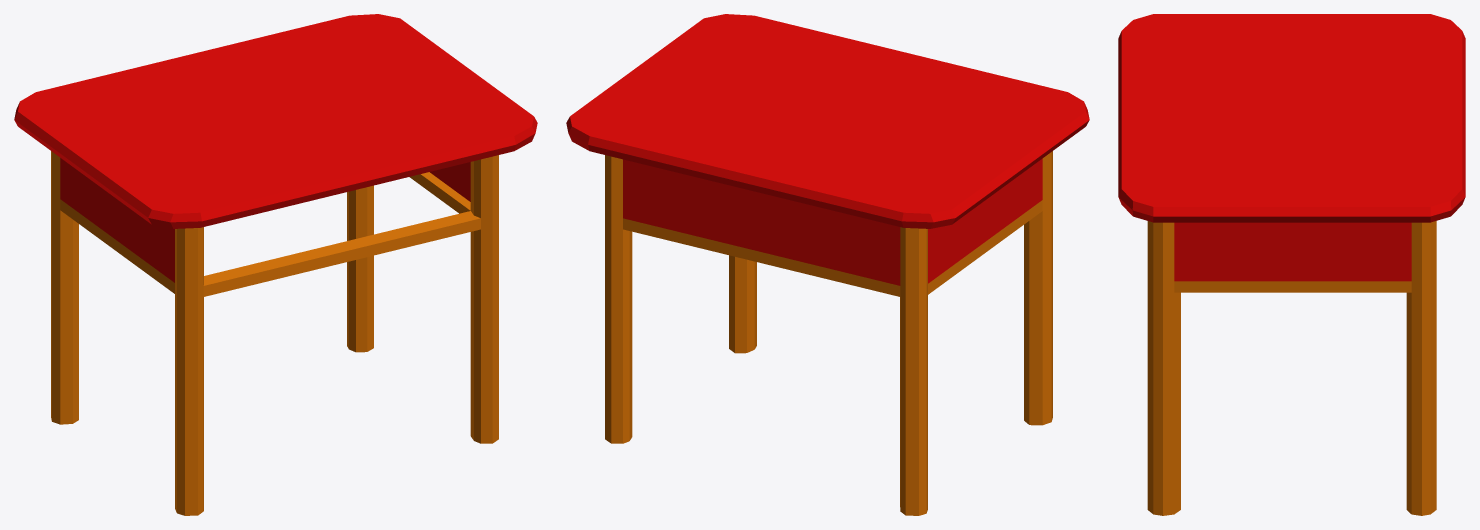
Rendered from GGJ-StudentDesk01.fbx.
3 renders of one model, left to right at view 1: azimuth 30°, elevation 25°; view 2: azimuth 150°, elevation 25°; view 3: azimuth 270°, elevation 25°, orthographic. The views are drawn at different scales.
Parts seen in each view (by area): view 1: StudentDesk; view 2: StudentDesk; view 3: StudentDesk.
Part boxes in pixels (x1,y1,x2,y2): StudentDesk: (14, 14, 537, 515); StudentDesk: (566, 14, 1089, 515); StudentDesk: (1118, 14, 1465, 515).
Size of the model in its own units: 276 by 206 by 213.
